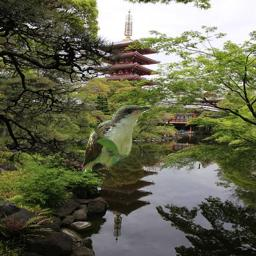Cuckoo: (81, 104, 150, 174)
